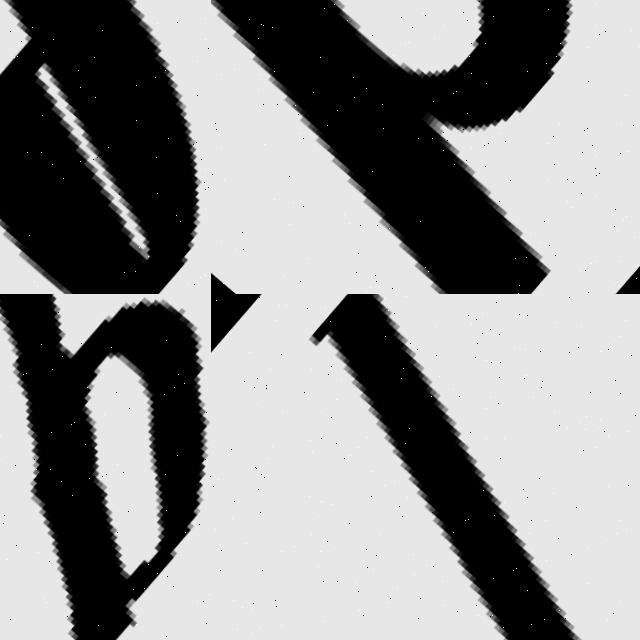D: (211, 0, 640, 294)
E: (0, 0, 205, 294)
L: (211, 294, 640, 640)
Q: (0, 294, 211, 640)
